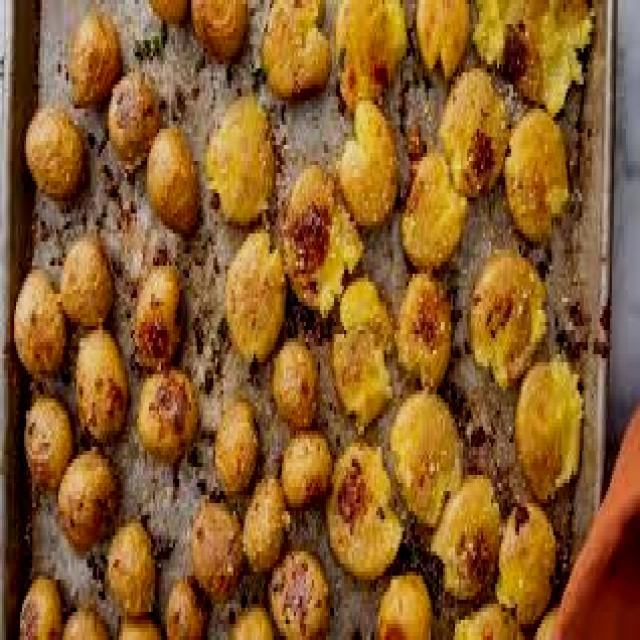organic: (327, 442, 401, 580), (470, 251, 544, 385), (390, 389, 461, 525), (515, 359, 582, 501), (439, 68, 509, 200), (431, 475, 501, 603), (205, 97, 273, 225), (280, 165, 340, 307), (505, 109, 569, 242), (224, 231, 286, 361), (335, 2, 406, 112), (339, 100, 399, 227), (402, 153, 466, 270), (498, 500, 556, 626), (262, 2, 332, 102), (396, 272, 454, 389), (332, 321, 392, 428), (74, 327, 130, 440), (58, 449, 119, 552), (147, 126, 200, 235), (14, 268, 66, 378), (269, 548, 331, 640), (25, 105, 84, 201), (138, 368, 197, 464), (192, 498, 246, 602), (134, 264, 184, 368), (105, 520, 156, 620), (70, 9, 121, 107), (61, 234, 113, 329), (114, 97, 166, 191), (23, 393, 73, 489), (242, 478, 288, 573), (214, 399, 259, 493), (272, 339, 319, 428), (416, 3, 470, 80), (281, 430, 332, 510), (376, 570, 431, 640), (191, 1, 247, 63), (19, 574, 63, 640), (166, 576, 207, 640)
